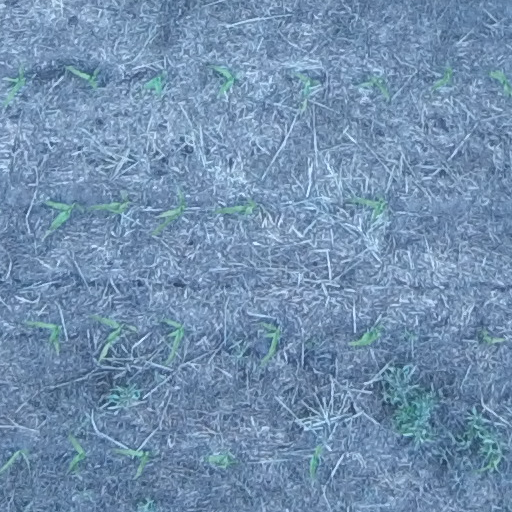planta: (88, 313, 124, 363), (150, 189, 188, 236), (111, 446, 157, 478), (159, 316, 184, 367), (24, 319, 61, 353), (44, 199, 76, 237), (350, 193, 389, 223), (257, 321, 282, 366), (293, 72, 321, 112), (88, 189, 131, 215), (206, 64, 241, 95), (346, 321, 384, 349), (2, 64, 26, 107), (67, 430, 87, 475), (212, 197, 256, 217), (357, 74, 390, 100), (202, 448, 239, 470), (65, 66, 98, 90), (429, 66, 453, 97), (306, 445, 323, 479), (141, 72, 162, 97), (479, 327, 506, 346)
